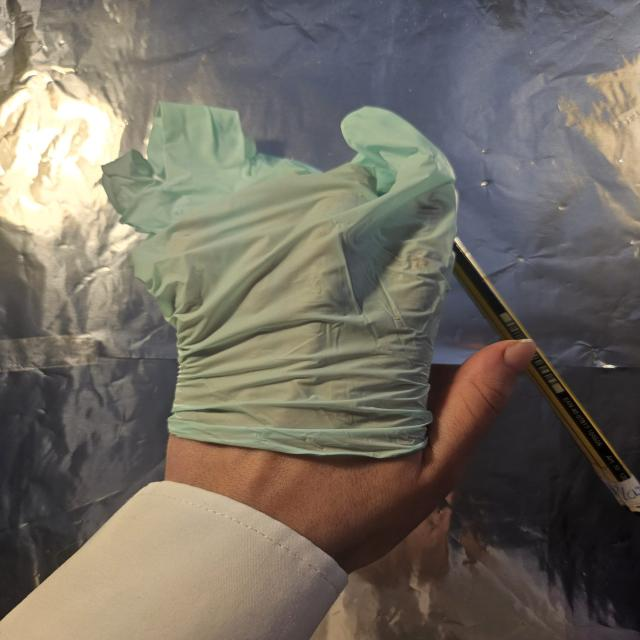glove_partial: (98, 100, 537, 558)
